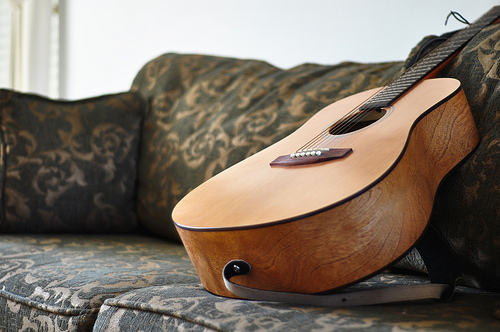guitar: (172, 5, 500, 300)
